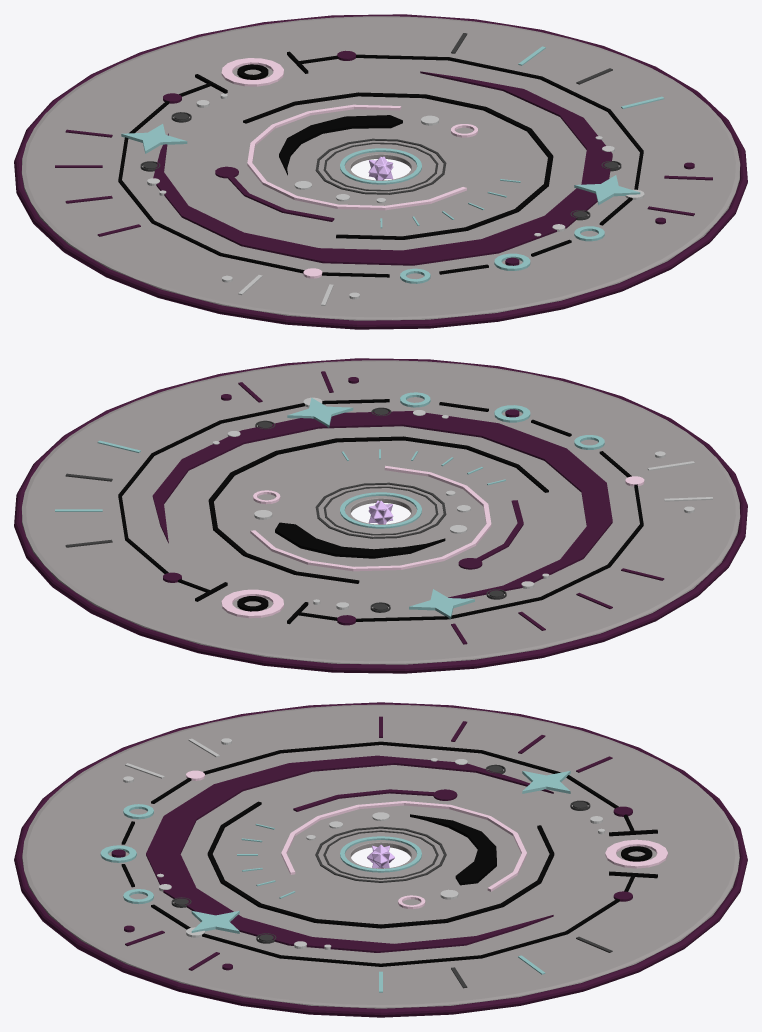
Rendered from balance star top_st2.fbx.
3 views of the same model, one above another, from view 1: azimuth 30°, elevation 25°; view 2: azimuth 150°, elevation 25°; view 3: azimuth 270°, elevation 25° (orthographic).
Visible parts, largest first — view 1: center_flat, moon_crescent, flat_art_ring__out, edge_art_ring1, center_art_ring7, center_art_ring5, center_art_ring4, small_art_star, edge_art_circle7, center_art_ring3, center_art_ring1, small_art_ring2 (+2 smaller); view 2: center_flat, flat_art_ring__out, moon_crescent, edge_art_ring1, center_art_ring7, center_art_ring5, center_art_ring4, small_art_star, edge_art_circle7, center_art_ring3, center_art_ring1, small_art_ring2 (+1 smaller); view 3: center_flat, moon_crescent, flat_art_ring__out, edge_art_ring1, center_art_ring7, center_art_ring5, center_art_ring4, small_art_star, edge_art_circle7, center_art_ring3, center_art_ring1, small_art_ring2 (+2 smaller).
Part boxes in pixels (x1=…): center_flat: x1=21, y1=16, x2=740, y2=320; moon_crescent: x1=153, y1=71, x2=612, y2=265; flat_art_ring__out: x1=14, y1=14, x2=747, y2=329; edge_art_ring1: x1=118, y1=54, x2=643, y2=277; center_art_ring7: x1=243, y1=92, x2=553, y2=239; center_art_ring5: x1=247, y1=104, x2=466, y2=210; center_art_ring4: x1=279, y1=115, x2=402, y2=175; small_art_star: x1=121, y1=124, x2=640, y2=205; edge_art_circle7: x1=221, y1=58, x2=283, y2=86; center_art_ring3: x1=315, y1=138, x2=446, y2=194; center_art_ring1: x1=340, y1=148, x2=421, y2=184; small_art_ring2: x1=140, y1=112, x2=621, y2=220; center_flat: x1=21, y1=360, x2=740, y2=664; flat_art_ring__out: x1=14, y1=358, x2=747, y2=673; moon_crescent: x1=152, y1=411, x2=612, y2=598; edge_art_ring1: x1=118, y1=399, x2=643, y2=621; center_art_ring7: x1=208, y1=436, x2=548, y2=583; center_art_ring5: x1=250, y1=465, x2=491, y2=571; center_art_ring4: x1=275, y1=522, x2=445, y2=558; small_art_star: x1=287, y1=397, x2=474, y2=619; edge_art_circle7: x1=221, y1=589, x2=283, y2=618; center_art_ring3: x1=315, y1=482, x2=446, y2=538; center_art_ring1: x1=340, y1=492, x2=421, y2=528; small_art_ring2: x1=255, y1=407, x2=506, y2=612; center_flat: x1=22, y1=704, x2=739, y2=1008; moon_crescent: x1=146, y1=755, x2=553, y2=952; flat_art_ring__out: x1=14, y1=702, x2=747, y2=1017; edge_art_ring1: x1=121, y1=741, x2=634, y2=966; center_art_ring7: x1=207, y1=801, x2=554, y2=928; center_art_ring5: x1=281, y1=801, x2=526, y2=891; center_art_ring4: x1=410, y1=814, x2=496, y2=885; small_art_star: x1=191, y1=771, x2=570, y2=933; edge_art_circle7: x1=605, y1=839, x2=667, y2=868; center_art_ring3: x1=315, y1=826, x2=446, y2=882; center_art_ring1: x1=340, y1=836, x2=421, y2=872; small_art_ring2: x1=171, y1=764, x2=590, y2=943.
Bounding box in the file's own units: 203 × 7.75 × 203.
